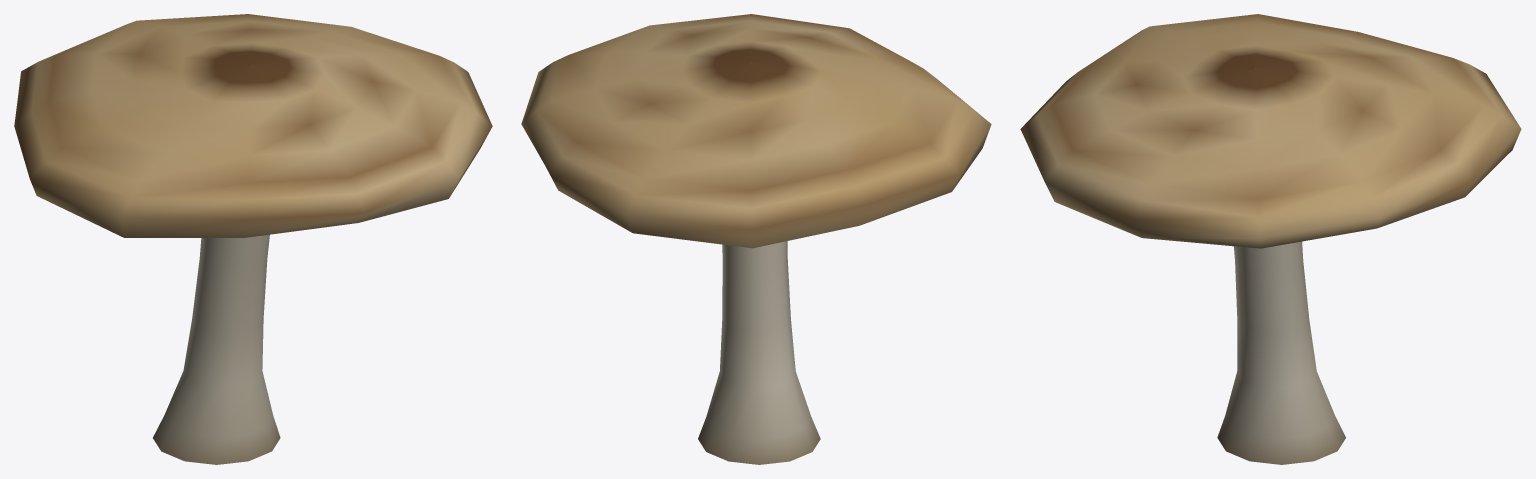
Rendered from mushroom-parasol-a.glb.
3 views of the same model, side by side, from view 1: azimuth 30°, elevation 25°; view 2: azimuth 150°, elevation 25°; view 3: azimuth 270°, elevation 25° (orthographic). The views are drawn at different scales.
Parts seen in each view (by area): view 1: mushroom-parasol-a; view 2: mushroom-parasol-a; view 3: mushroom-parasol-a.
Boxes of the visible parts, x1,y1,x2,y2 form: mushroom-parasol-a: (14,14,492,464); mushroom-parasol-a: (521,14,991,464); mushroom-parasol-a: (1020,14,1521,464).
Size of the model in its own units: 0.3044 by 0.25 by 0.2988.
